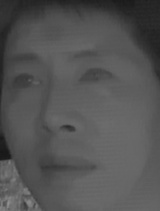eye: (77, 65, 115, 90), (10, 70, 46, 95)
mouth: (36, 149, 96, 183)
